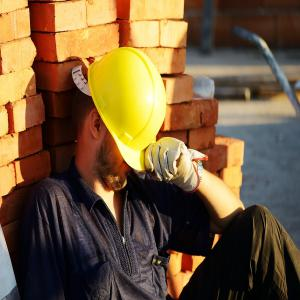yellow: (72, 47, 167, 188)
